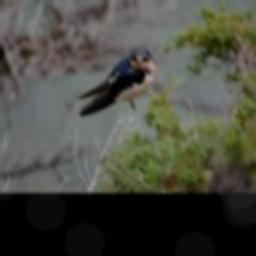Swallow: (76, 46, 155, 115)
